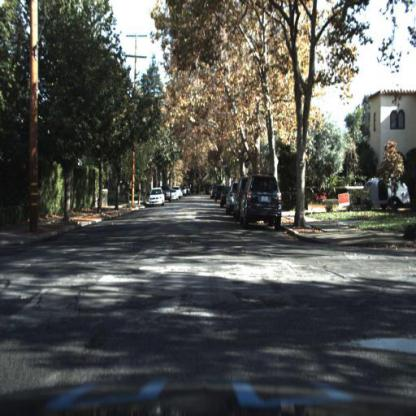car: (242, 172, 284, 232), (358, 171, 410, 213), (234, 175, 247, 226), (227, 179, 238, 218), (149, 187, 167, 208), (150, 187, 168, 207), (170, 190, 179, 204)
